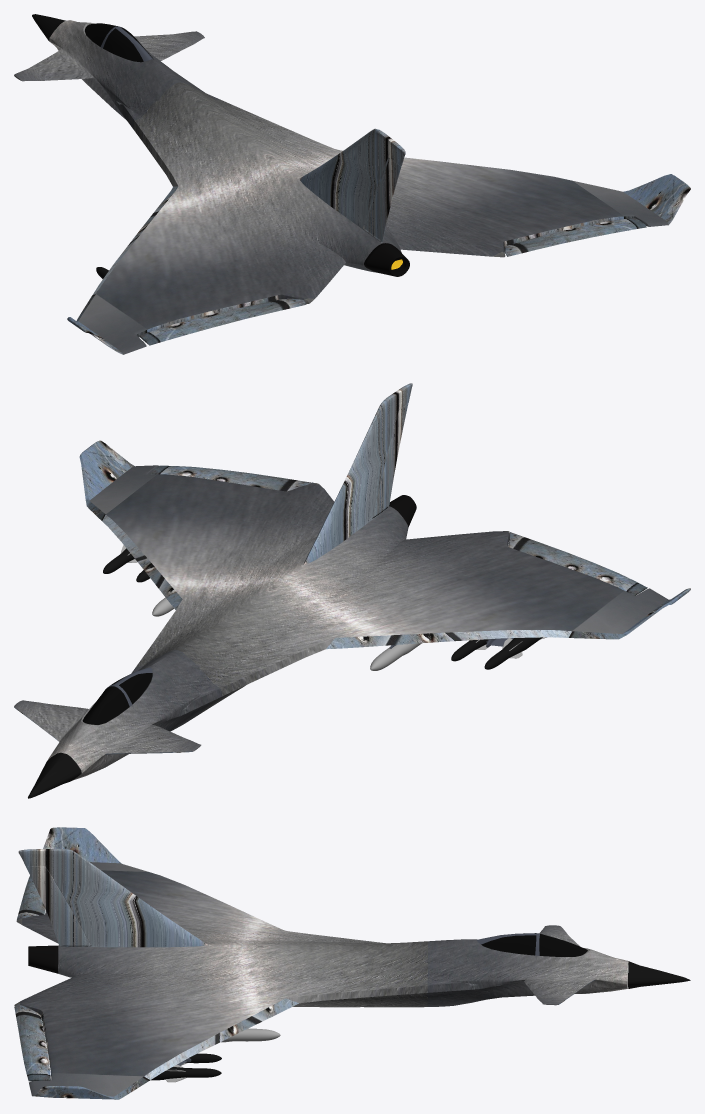
File: skyfighter fbx.fbx
The picture shows the model from 3 angles, top to bottom: view 1: azimuth 30°, elevation 25°; view 2: azimuth 150°, elevation 25°; view 3: azimuth 270°, elevation 25°; orthographic projection. The views are drawn at different scales.
Parts seen in each view (by area): view 1: Cube_008, Cube_001, Cube_003; view 2: Cube_008, Cube_001, Cube_002, Circle_002; view 3: Cube_008, Cube_001, Cube_002, Cube_003, Circle_004, Circle_006.
Boxes of the visible parts, x1,y1,x2,y2 form: Cube_008: (14, 20, 690, 354); Cube_001: (85, 23, 153, 62); Cube_003: (364, 243, 409, 276); Cube_008: (14, 383, 690, 780); Cube_001: (82, 667, 152, 724); Cube_002: (28, 752, 81, 798); Circle_002: (484, 637, 546, 669); Cube_008: (14, 827, 628, 1099); Cube_001: (477, 933, 587, 956); Cube_002: (628, 961, 690, 988); Cube_003: (28, 945, 58, 973); Circle_004: (151, 1064, 221, 1082); Circle_006: (221, 1028, 280, 1042).
Bounding box in the file's own units: 11.2 × 3.08 × 12.33.
12 materials, 2 textured.
